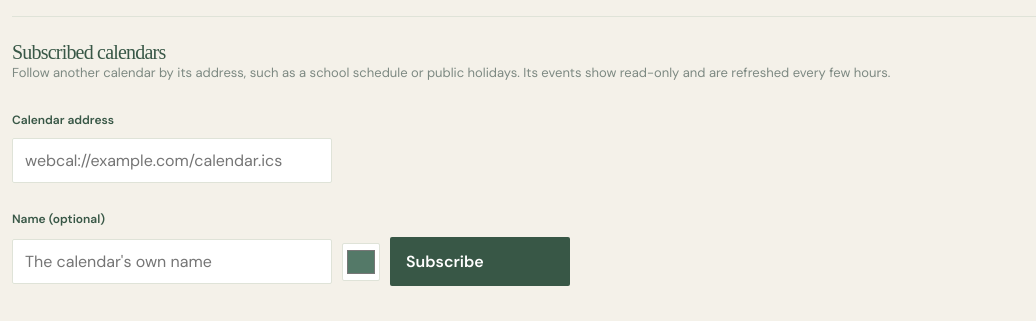
Test: SubscriptionSettings › subscribes with the address, name and color
Type "webcal://example.com/holidays.ics" into the field labelled "Calendar address" at (172, 160), box x1=12 y1=138 x2=332 y2=183
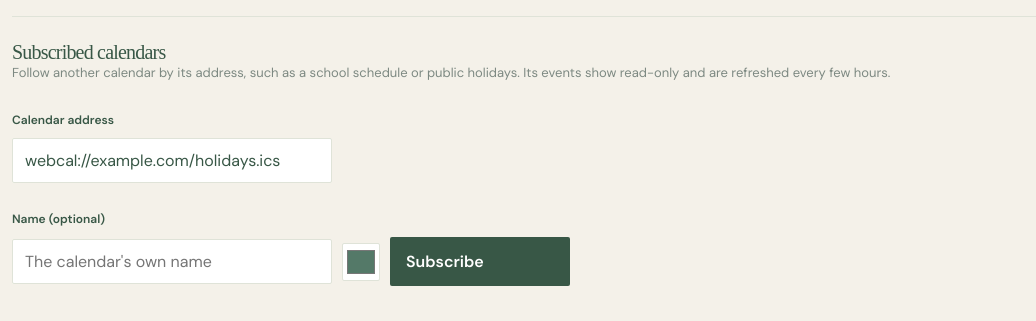
Type "Holidays" into the field labelled "Name (optional)" at (172, 262), box x1=12 y1=239 x2=332 y2=284
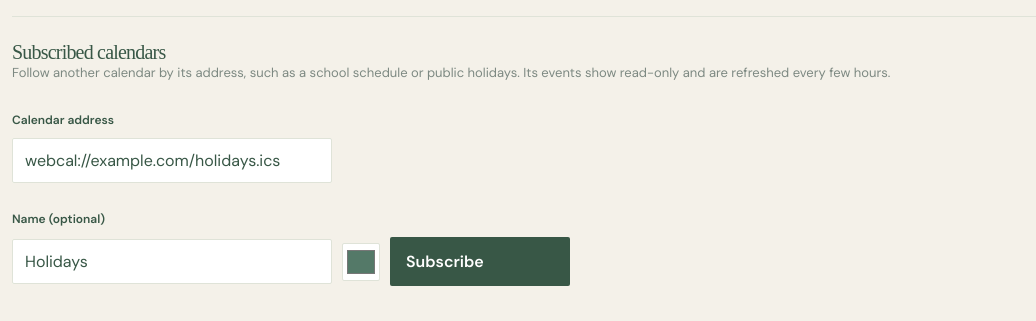
Click the button "Subscribe" at (480, 262), box x1=390 y1=237 x2=570 y2=286
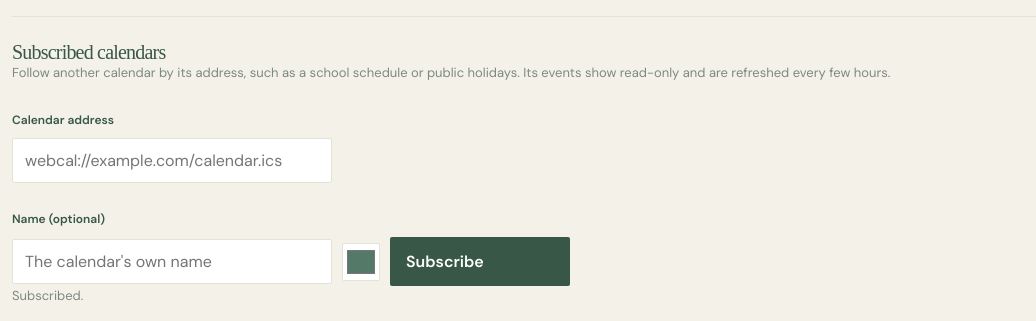
expect the text "Subscribed." is shown: met, box x1=12 y1=287 x2=83 y2=304
